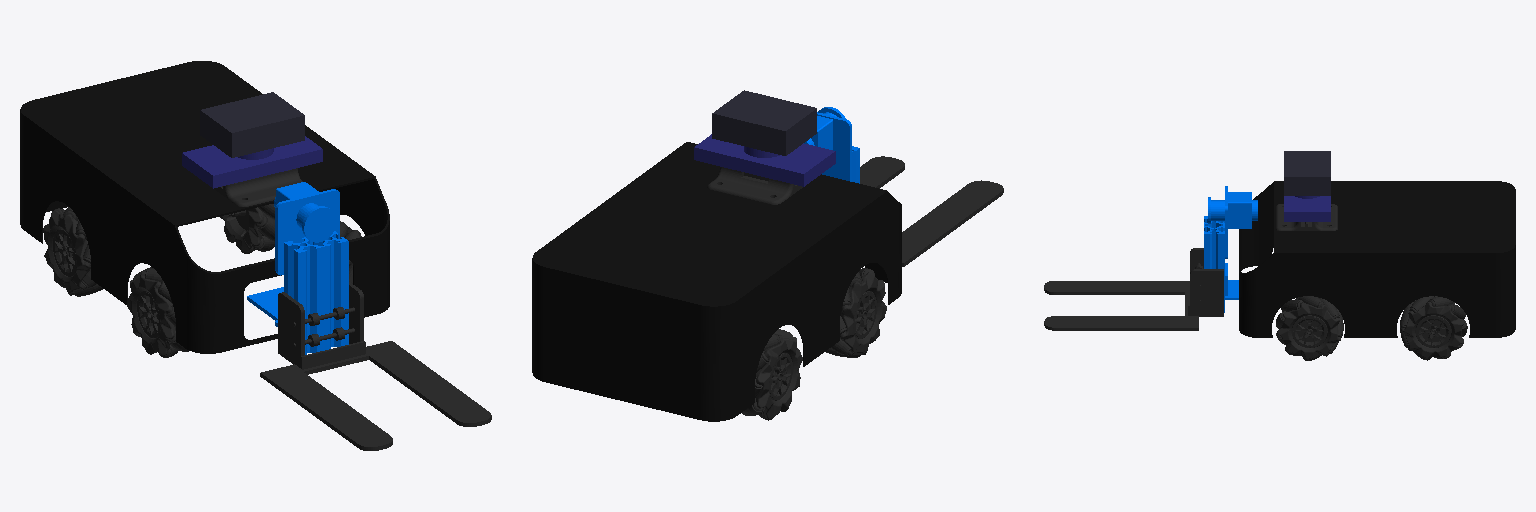
robot.urdf — ROBOT_urdf:
<?xml version="1.0" encoding="utf-8"?>
<!-- This URDF was automatically created by SolidWorks to URDF Exporter! 
     Edited by @cmoralesd, july 2024
     For more information, please see http://wiki.ros.org/sw_urdf_exporter -->
<robot
  name="ROBOT_urdf">
  <!-- Dummy -->
  <link name="base_link">
    <visual>
      <geometry>
        <box size="0.01 0.01 0.01"/> <!-- Tamaño arbitrario, ya que no lo verás -->
      </geometry>
    </visual>
  </link>
  <!-- Dummy -->
  <link
    name="CHASSISFULL">
    <inertial>
      <origin
        xyz="0 0 0"
        rpy="0 0 0" />
      <mass
        value="0.30841" />
      <inertia
        ixx="0.00015661"
        ixy="-1.7004E-07"
        ixz="3.939E-07"
        iyy="0.00045596"
        iyz="8.2607E-08"
        izz="0.00038161" />
    </inertial>
    <visual>
      <origin
        xyz="0 0 0.26"
        rpy="0 0 0" />
      <geometry>
        <mesh
          filename="[local-path]/project_ws/src/my_project_pkg/model/meshes/CHASSISFULL.stl" scale="0.0025 0.0025 0.0025" />
      </geometry>
      <material
        name="">
        <color
          rgba="0.1 0.1 0.1 1" />
      </material>
    </visual>
    <collision>
      <origin
        xyz="0 0 0.26"
        rpy="0 0 0" />
      <geometry>
        <mesh
          filename="[local-path]/project_ws/src/my_project_pkg/model/meshes/CHASSISFULL.stl" scale="0.0025 0.0025 0.0025" />
      </geometry>
    </collision>
  </link>
   <!-- Joint between the dummy link and CHASSISFULL -->
  <joint name="base_to_chassis" type="fixed">
    <parent link="base_link" />
    <child link="CHASSISFULL" />
    <origin xyz="0 0 0" rpy="0 0 0" /> <!-- Ubicación del enlace CHASSISFULL respecto al dummy link -->
  </joint>
    <!--CARCAZA-->
  <link
    name="CUERPO1">
    <inertial>
      <origin
        xyz="0 0 0"
        rpy="0 0 0" />
      <mass
        value="0.30841" />
      <inertia
        ixx="0.00015661"
        ixy="-1.7004E-07"
        ixz="3.939E-07"
        iyy="0.00045596"
        iyz="8.2607E-08"
        izz="0.00038161" />
    </inertial>
    <visual>
      <origin
        xyz="0 0 0"
        rpy="0 0 0" />
      <geometry>
        <mesh
          filename="package://my_project_pkg/model/meshes/CUERPO1.stl" scale="0.0025 0.0025 0.0025" />
      </geometry>
      <material
        name="">
        <color
          rgba="0.1 0.1 0.1 1" />
      </material>
    </visual>
    <collision>
      <origin
        xyz="0 0 0"
        rpy="0 0 0" />
      <geometry>
        <mesh
          filename="package://my_project_pkg/model/meshes/CUERPO1.stl" scale="0.0025 0.0025 0.0025" />
      </geometry>
    </collision>
  </link>
  <joint
    name="CUERPO1_joint"
    type="fixed">
    <origin
      xyz="0 0 0.26"
      rpy="0 0 0" />
    <parent
      link="CHASSISFULL" />
    <child
      link="CUERPO1" />
    <axis
      xyz="0 0 -1" />
  </joint>  
    <!--SOPORTE1-->
  <link
    name="SOPORTE1">
    <inertial>
      <origin
        xyz="0 0 0"
        rpy="0 0 0" />
      <mass
        value="0.30841" />
      <inertia
        ixx="0.00015661"
        ixy="-1.7004E-07"
        ixz="3.939E-07"
        iyy="0.00045596"
        iyz="8.2607E-08"
        izz="0.00038161" />
    </inertial>
    <visual>
      <origin
        xyz="0 0 0"
        rpy="0 0 0" />
      <geometry>
        <mesh
          filename="package://my_project_pkg/model/meshes/SOPORTE1.stl" scale="0.0025 0.0025 0.0025" />
      </geometry>
      <material
        name="">
        <color
          rgba="0.2 0.2 0.2 1" />
      </material>
    </visual>
    <collision>
      <origin
        xyz="0 0 0"
        rpy="0 0 0" />
      <geometry>
        <mesh
          filename="package://my_project_pkg/model/meshes/SOPORTE1.stl" scale="0.0025 0.0025 0.0025" />
      </geometry>
    </collision>
  </link>
  <joint
    name="SOPORTE1_joint"
    type="fixed">
    <origin
      xyz="0 0 0.26"
      rpy="0 0 0" />
    <parent
      link="CHASSISFULL" />
    <child
      link="SOPORTE1" />
    <axis
      xyz="0 0 -1" />
  </joint>   
    <!--SOPORTE2-->
    <link
    name="SOPORTE2">
    <inertial>
      <origin
        xyz="0 0 0"
        rpy="0 0 0" />
      <mass
        value="0.30841" />
      <inertia
        ixx="0.00015661"
        ixy="-1.7004E-07"
        ixz="3.939E-07"
        iyy="0.00045596"
        iyz="8.2607E-08"
        izz="0.00038161" />
    </inertial>
    <visual>
      <origin
        xyz="0 0 0"
        rpy="0 0 0" />
      <geometry>
        <mesh
          filename="package://my_project_pkg/model/meshes/SOPORTE2.stl" scale="0.0025 0.0025 0.0025" />
      </geometry>
      <material
        name="">
        <color
          rgba="0.2 0.2 0.5 1" />
      </material>
    </visual>
    <collision>
      <origin
        xyz="0 0 0"
        rpy="0 0 0" />
      <geometry>
        <mesh
          filename="package://my_project_pkg/model/meshes/SOPORTE2.stl" scale="0.0025 0.0025 0.0025" />
      </geometry>
    </collision>
  </link>
  <joint
    name="SOPORTE2_joint"
    type="fixed">
    <origin
      xyz="0 0 0.26"
      rpy="0 0 0" />
    <parent
      link="CHASSISFULL" />
    <child
      link="SOPORTE2" />
    <axis
      xyz="0 0 -1" />
  </joint> 
    <!--LIDAR-->
  <link
    name="LIDAR">
    <inertial>
      <origin
        xyz="0 0 0"
        rpy="0 0 0" />
      <mass
        value="0.30841" />
      <inertia
        ixx="0.00015661"
        ixy="-1.7004E-07"
        ixz="3.939E-07"
        iyy="0.00045596"
        iyz="8.2607E-08"
        izz="0.00038161" />
    </inertial>
    <visual>
      <origin
        xyz="0 0 0"
        rpy="0 0 0" />
      <geometry>
        <mesh
          filename="package://my_project_pkg/model/meshes/LIDAR.stl" scale="0.0025 0.0025 0.0025" />
      </geometry>
      <material
        name="">
        <color
          rgba="0.2 0.2 0.25 1" />
      </material>
    </visual>
    <collision>
      <origin
        xyz="0 0 0"
        rpy="0 0 0" />
      <geometry>
        <mesh
          filename="package://my_project_pkg/model/meshes/LIDAR.stl" scale="0.0025 0.0025 0.0025" />
      </geometry>
    </collision>
  </link>
  <joint
    name="LIDAR_joint"
    type="fixed">
    <origin
      xyz="0 0 0.26"
      rpy="0 0 0" />
    <parent
      link="CHASSISFULL" />
    <child
      link="LIDAR" />
    <axis
      xyz="0 0 -1" />
  </joint>   
    <!--RUEDA DER A-->
  <link
    name="ARD">
    <inertial>
      <origin
        xyz="0 0 0"
        rpy="0 0 0" />
      <mass
        value="0.20029" />
      <inertia
        ixx="0.00013739"
        ixy="1.2647E-09"
        ixz="-8.5796E-10"
        iyy="0.00022942"
        iyz="-1.0267E-08"
        izz="0.00013739" />
    </inertial>
    <visual>
      <origin
        xyz="0 0 0"
        rpy="0 0 0" />
      <geometry>
        <mesh
          filename="package://my_project_pkg/model/meshes/ARD.STL" scale="2.25 2.25 2.25" />
      </geometry>
      <material
        name="">
        <color
          rgba="0.2 0.2 0.2 1" />
      </material>
    </visual>
    <collision>
      <origin
        xyz="0 0 0"
        rpy="0 0 0" />
      <geometry>
        <mesh
          filename="package://my_project_pkg/model/meshes/ARD.STL" scale="2.25 2.25 2.25" />
      </geometry>
    </collision>
  </link>
  <joint
    name="ARD_joint"
    type="continuous">
    <origin
      xyz="0.268724 0.198856 0.12"
      rpy="0 0 -1.5708" />
    <parent
      link="CHASSISFULL" />
    <child
      link="ARD" />
    <axis
      xyz="0 1 0" />
  </joint>
  <!--RUEDA IZQ A-->
  <link
    name="ARI">
    <inertial>
      <origin
        xyz="0 0 0"
        rpy="0 0 0" />
      <mass
        value="0.20022" />
      <inertia
        ixx="0.00013738"
        ixy="-7.8382E-09"
        ixz="-9.4422E-10"
        iyy="0.00022942"
        iyz="7.0508E-09"
        izz="0.00013738" />
    </inertial>
    <visual>
      <origin
        xyz="0 0 0"
        rpy="0 0 0" />
      <geometry>
        <mesh
          filename="package://my_project_pkg/model/meshes/ARI.STL" scale="2.25 2.25 2.25" />
      </geometry>
      <material
        name="">
        <color
          rgba="0.2 0.2 0.2 1" />
      </material>
    </visual>
    <collision>
      <origin
        xyz="0 0 0"
        rpy="0 0 0" />
      <geometry>
        <mesh
          filename="package://my_project_pkg/model/meshes/ARI.STL" scale="2.25 2.25 2.25" />
      </geometry>
    </collision>
  </link>
  <joint
    name="ARI_joint"
    type="continuous">
    <origin
      xyz="-0.268724 -0.198856 0.12"
      rpy="0 0 -1.5708" />
    <parent
      link="CHASSISFULL" />
    <child
      link="ARI" />
    <axis
      xyz="0 -1 0" />
  </joint>
  <!--RUEDA DRCHA B-->
  <link
    name="BRD">
    <inertial>
      <origin
        xyz="0 0 0"
        rpy="0 0 0" />
      <mass
        value="0.20022" />
      <inertia
        ixx="0.00013738"
        ixy="7.29E-09"
        ixz="-8.7599E-10"
        iyy="0.00022942"
        iyz="-7.5627E-09"
        izz="0.00013738" />
    </inertial>
    <visual>
      <origin
        xyz="0 0 0"
        rpy="0 0 0" />
      <geometry>
        <mesh
          filename="package://my_project_pkg/model/meshes/BRD.STL" scale="2.25 2.25 2.25" />
      </geometry>
      <material
        name="">
        <color
          rgba="0.2 0.2 0.2 1" />
      </material>
    </visual>
    <collision>
      <origin
        xyz="0 0 0"
        rpy="0 0 0" />
      <geometry>
        <mesh
          filename="package://my_project_pkg/model/meshes/BRD.STL" scale="2.25 2.25 2.25" />
      </geometry>
    </collision>
  </link>
  <joint
    name="BRD_joint"
    type="continuous">
    <origin
      xyz="0.268724 -0.198856 0.12"
      rpy="0 0 -1.5708" />
    <parent
      link="CHASSISFULL" />
    <child
      link="BRD" />
    <axis
      xyz="0 1 0" />
  </joint>
  <!--RUEDA IZQDA B-->
  <link
    name="BRI">
    <inertial>
      <origin
        xyz="0 0 0"
        rpy="0 0 0" />
      <mass
        value="0.20029" />
      <inertia
        ixx="0.00013738"
        ixy="-2.2209E-09"
        ixz="-1.3258E-10"
        iyy="0.00022942"
        iyz="1.1069E-08"
        izz="0.00013739" />
    </inertial>
    <visual>
      <origin
        xyz="0 0 0"
        rpy="0 0 0" />
      <geometry>
        <mesh
          filename="package://my_project_pkg/model/meshes/BRI.STL" scale="2.25 2.25 2.25" />
      </geometry>
      <material
        name="">
        <color
          rgba="0.2 0.2 0.2 1" />
      </material>
    </visual>
    <collision>
      <origin
        xyz="0 0 0"
        rpy="0 0 0" />
      <geometry>
        <mesh
          filename="package://my_project_pkg/model/meshes/BRI.STL" scale="2.25 2.25 2.25" />
      </geometry>
    </collision>
  </link>
  <joint
    name="BRI_joint"
    type="continuous">
    <origin
      xyz="-0.268724 0.198856 0.12"
      rpy="0 0 -1.5708" />
    <parent
      link="CHASSISFULL" />
    <child
      link="BRI" />
    <axis
      xyz="0 1 0" />
  </joint>
  <!--CARCASA INSERTAR ACTUADOR-->
  <link
    name="ACTUADORCORTO">
    <inertial>
      <origin
        xyz="0 0 0"
        rpy="0 0 0" />
      <mass
        value="0.045336" />
      <inertia
        ixx="0.00024085"
        ixy="-3.5448E-12"
        ixz="-4.3023E-06"
        iyy="1.5885E-05"
        iyz="-6.7384E-10"
        izz="0.0002418" />
    </inertial>
    <visual>
      <origin
        xyz="0 0 0"
        rpy="0 0 0" />
      <geometry>
        <mesh
          filename="package://my_project_pkg/model/meshes/ACTUADORCORTO.stl" scale="0.0025 0.0025 0.0025" />
      </geometry>
      <material
        name="">
        <color
          rgba="0 0.5 1 1" />
      </material>
    </visual>
    <collision>
      <origin
        xyz="0 0 0"
        rpy="0 0 0" />
      <geometry>
        <mesh
          filename="package://my_project_pkg/model/meshes/ACTUADORCORTO.stl" scale="0.0025 0.0025 0.0025" />
      </geometry>
    </collision>
  </link>
  <joint
    name="ACTUADORCORTO_joint"
    type="fixed">
    <origin
      xyz="0 0 0.26"
      rpy="0 0 0" />
    <parent
      link="CHASSISFULL" />
    <child
      link="ACTUADORCORTO" />
    <axis
      xyz="0 0 -1" />
  </joint>
  <!--MÁS CARCASA INSERTAR PALAS(¿?)-->
  <link
    name="PALASV2">
    <inertial>
      <origin
        xyz="0 0 0"
        rpy="0 0 0" />
      <mass
        value="0.52675" />
      <inertia
        ixx="0.0023409"
        ixy="2.8879E-07"
        ixz="-0.00018051"
        iyy="0.0055444"
        iyz="-7.0668E-08"
        izz="0.0077521" />
    </inertial>
    <visual>
      <origin
        xyz="0 0 0"
        rpy="0 0 0" />
      <geometry>
        <mesh
          filename="package://my_project_pkg/model/meshes/PALASV2.stl" scale="0.0025 0.0025 0.0025" />
      </geometry>
      <material
        name="">
        <color
          rgba="0.2 0.2 0.2 1" />
      </material>
    </visual>
    <collision>
      <origin
        xyz="0 0 0"
        rpy="0 0 0" />
      <geometry>
        <mesh
          filename="package://my_project_pkg/model/meshes/PALASV2.stl" scale="0.0025 0.0025 0.0025" />
      </geometry>
    </collision>
  </link>
  <joint
    name="PALASV2_joint"
    type="prismatic">
    <axis xyz="0 0 1" />
    <limit lower="-0.03" upper="0.1" effort="50.0" velocity="16.0" />
    <origin
      xyz="0 0 0.05"
      rpy="0 0 0" />
    <parent
      link="ACTUADORCORTO" />
    <child
      link="PALASV2" />
    <axis
      xyz="0 0 -1" />
  </joint>
</robot>
<!--MÁS CARCASA INSERTAR ACTUADOR(¿?)-->

--- Render facts (derived) ---
3 views of the same robot in one strip: view 1: azimuth 30°, elevation 25°; view 2: azimuth 150°, elevation 25°; view 3: azimuth 270°, elevation 25° (orthographic).
Model ROBOT_urdf with 12 links and 11 joints (4 continuous, 1 prismatic, 6 fixed), rooted at base_link, posed all joints at 0.
Visible links, largest first — view 1: CUERPO1, PALASV2, ACTUADORCORTO, LIDAR, SOPORTE2, ARI, BRI, ARD, SOPORTE1; view 2: CUERPO1, LIDAR, PALASV2, SOPORTE2, BRI, ARI, ACTUADORCORTO, SOPORTE1; view 3: CUERPO1, PALASV2, ARD, BRD, ACTUADORCORTO, LIDAR, SOPORTE2, SOPORTE1.
Boxes of the visible links, x1,y1,x2,y2 form: CUERPO1: (20, 61, 389, 353); PALASV2: (260, 282, 491, 450); ACTUADORCORTO: (247, 182, 348, 354); LIDAR: (200, 92, 304, 157); SOPORTE2: (182, 136, 322, 188); ARI: (127, 267, 188, 357); BRI: (43, 207, 102, 296); ARD: (220, 204, 274, 253); SOPORTE1: (214, 168, 302, 206); CUERPO1: (532, 142, 901, 421); LIDAR: (712, 90, 816, 155); PALASV2: (860, 156, 1003, 266); SOPORTE2: (694, 134, 835, 186); BRI: (742, 329, 802, 420); ARI: (825, 268, 886, 357); ACTUADORCORTO: (804, 107, 859, 183); SOPORTE1: (707, 167, 802, 204); CUERPO1: (1239, 181, 1515, 337); PALASV2: (1044, 248, 1223, 330); ARD: (1400, 296, 1467, 360); BRD: (1276, 296, 1343, 360); ACTUADORCORTO: (1204, 186, 1257, 312); LIDAR: (1284, 151, 1330, 195); SOPORTE2: (1284, 196, 1330, 221); SOPORTE1: (1276, 204, 1337, 230).
Size in the robot's own frame: 0.5718 by 1.51 by 0.59 metres.
Meshes: 10 distinct files referenced, 10 mesh visuals loaded (10 binary STL); not drawn: 1 (reference in a form the renderer does not follow; not among the files counted above).
